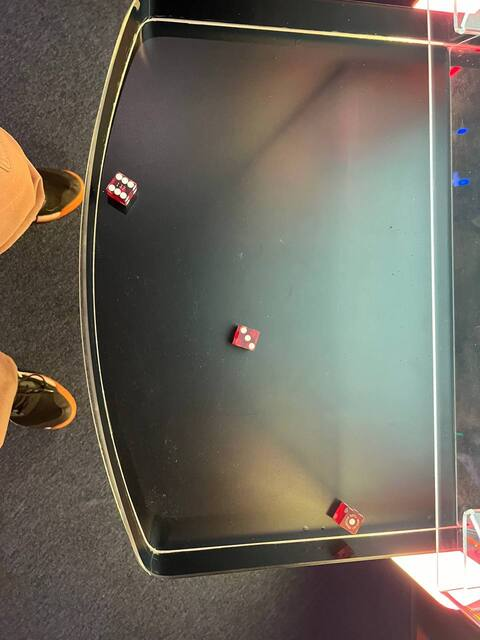one: (338, 508, 366, 536)
six: (104, 170, 139, 202)
three: (229, 323, 263, 353)
